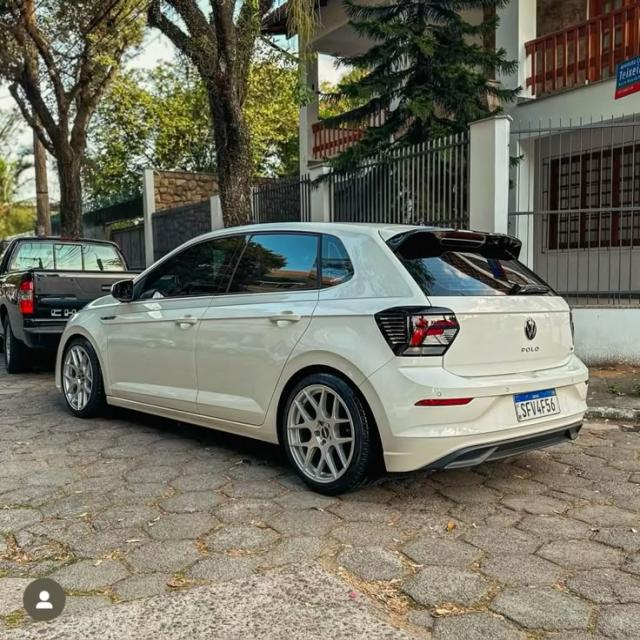Placas: (511, 388, 562, 425)
